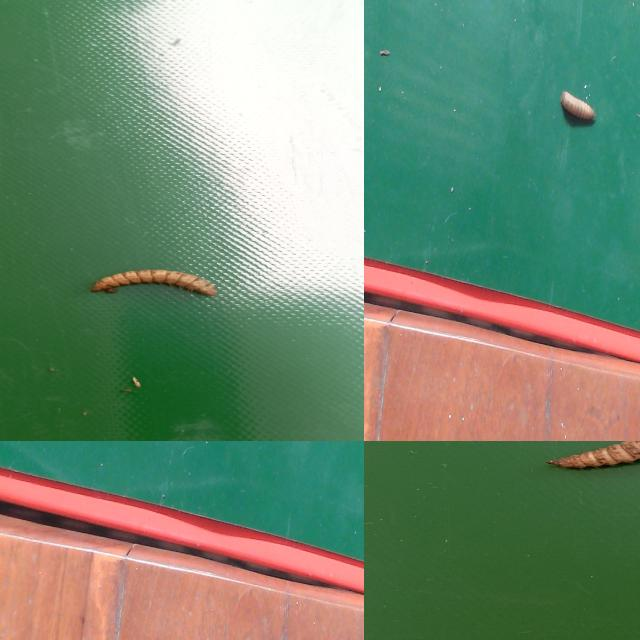Maggot: (89, 269, 217, 299), (550, 441, 640, 472), (560, 92, 597, 128)
